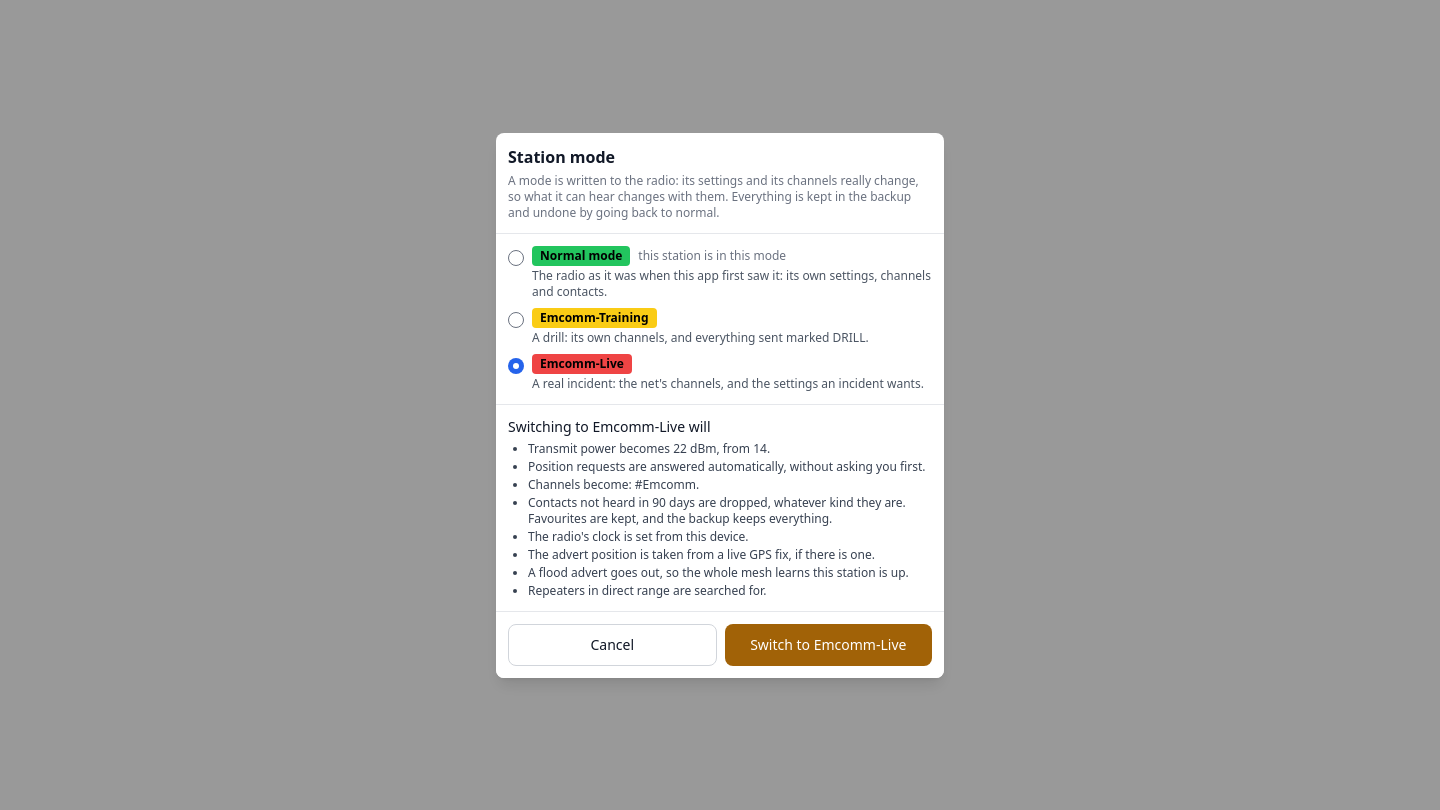
Test: the mode switch dialog › switches when pressed, and says so
Click the button "Switch to Emcomm-Live" at (828, 644), box [725,624,932,666]
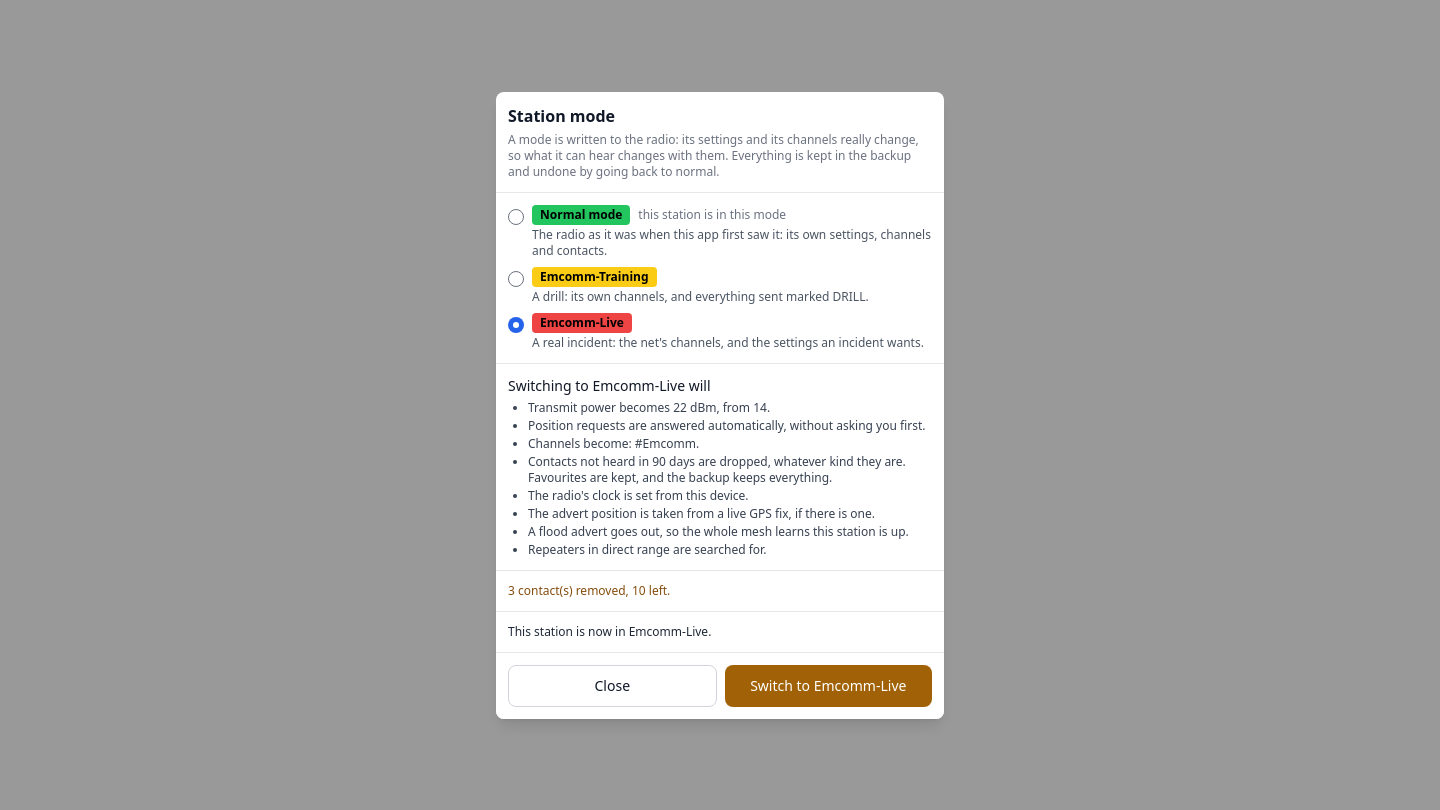
Expected: the text "This station is now in Emcomm-Live" is shown, [508,622,711,640]
Expected: the text "3 contact(s) removed" is shown, [508,582,670,598]
